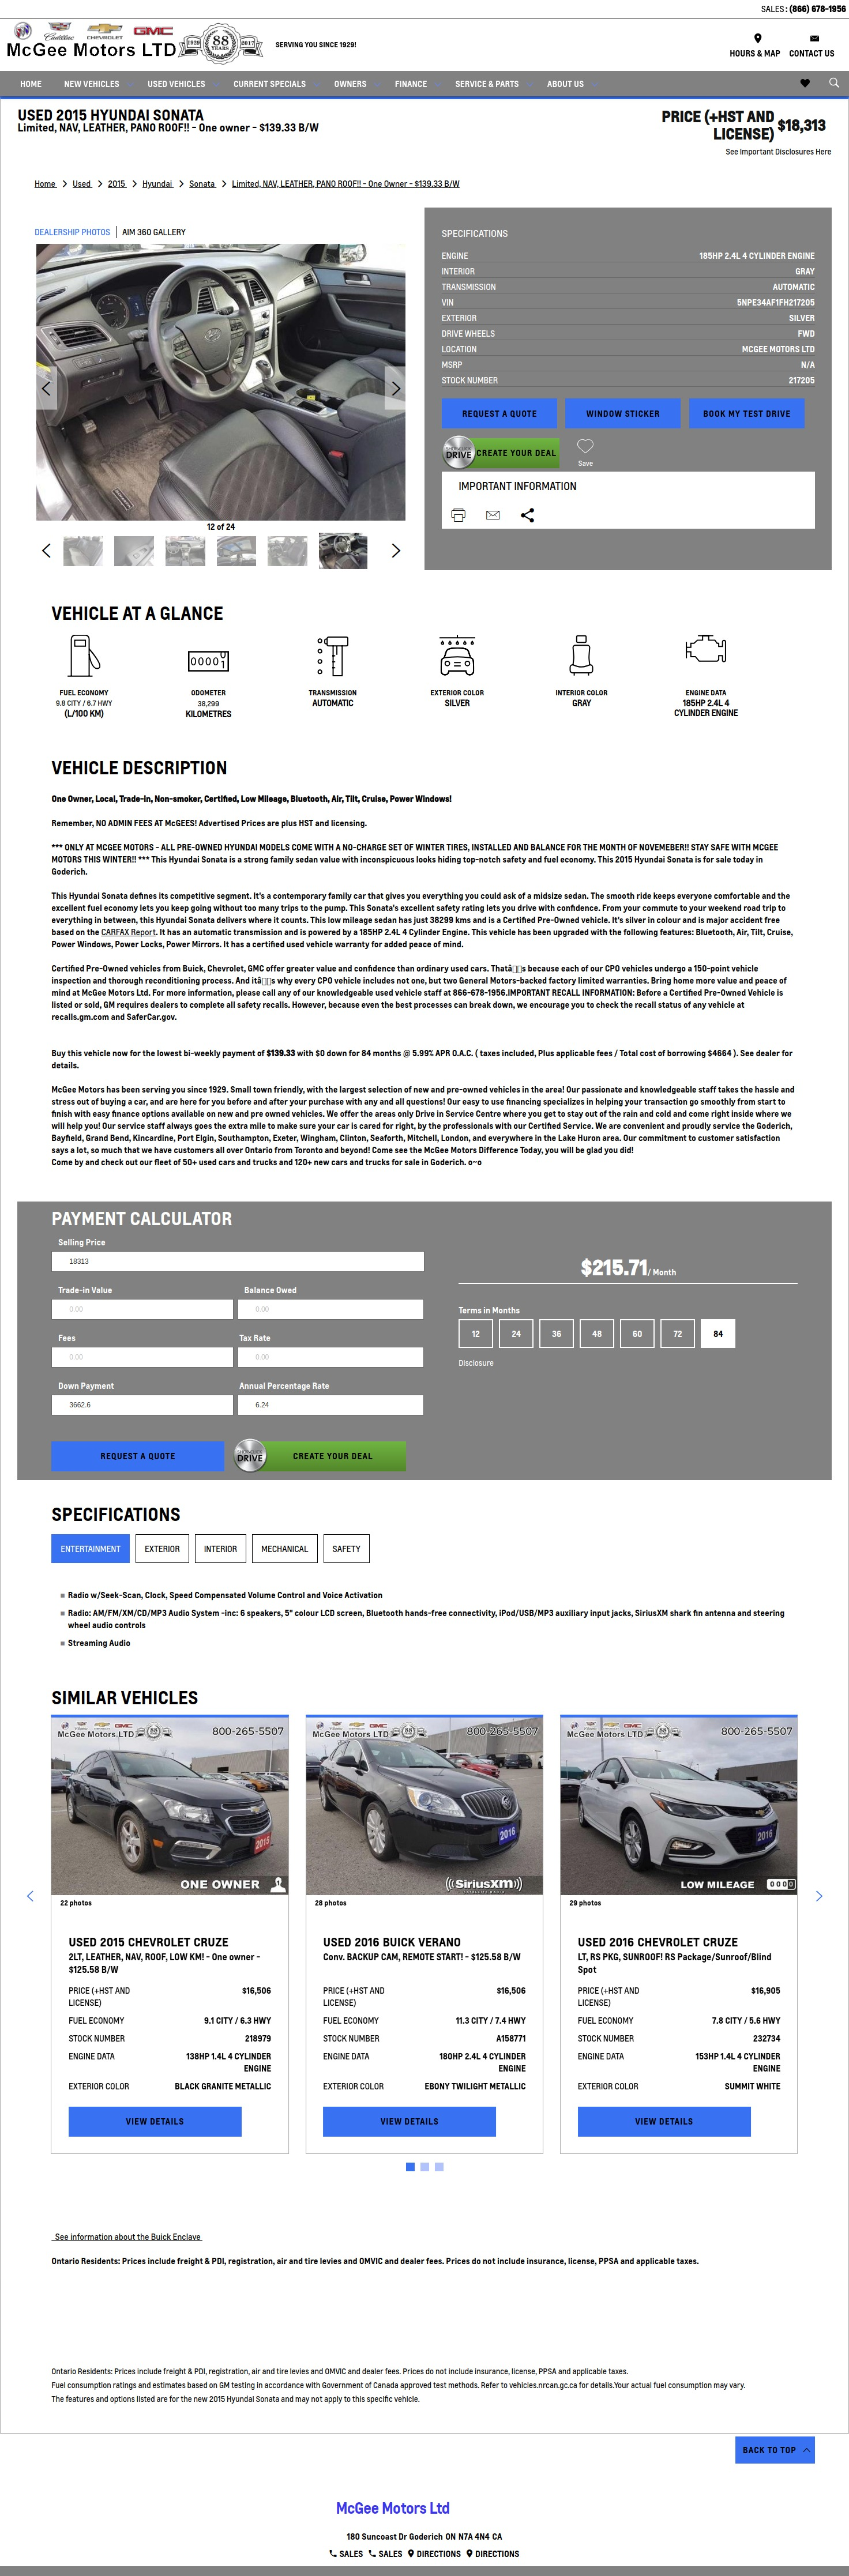car: (391, 544, 401, 559)
